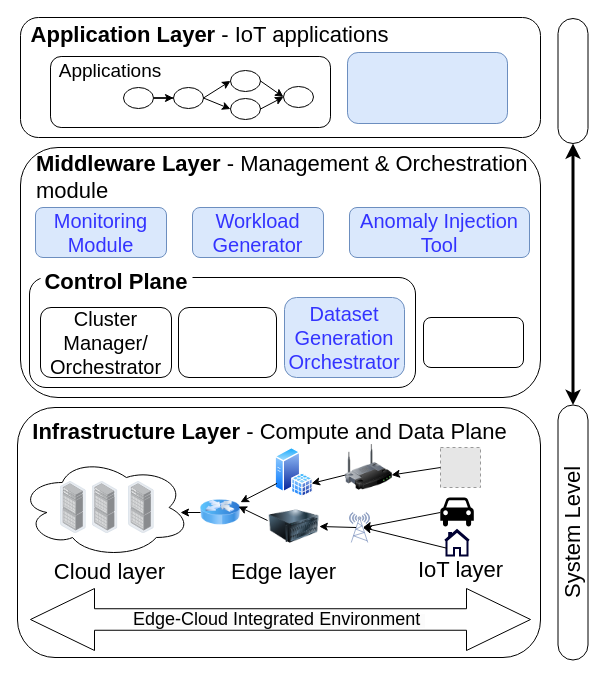
The diagram is 606 pixels wide and 678 high, and some of its shapes have lost their labels. Grey dashed boxes stand in for pictures. Each missing label, with the centre of its shape:
Dataset Generation Configurations: the point at 427,88
Network Controller: the point at 227,342
Network Emulator: the point at 473,342
User Level: the point at 572,81
